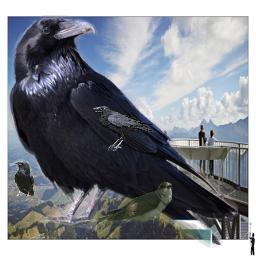Crow: (9, 15, 238, 248), (93, 106, 154, 151), (14, 161, 34, 196)
Cuckoo: (69, 181, 172, 228)
